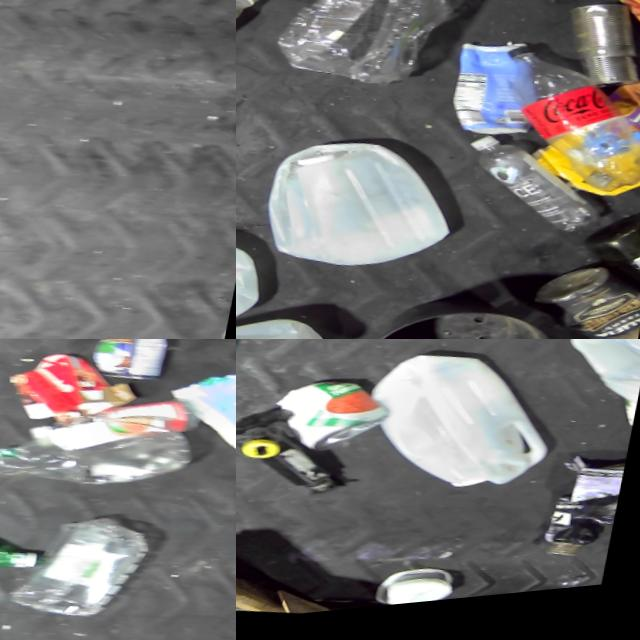can: (269, 371, 392, 464), (564, 5, 640, 105), (86, 339, 186, 402), (373, 563, 468, 615)
milk_jug: (259, 126, 477, 296), (361, 343, 569, 515), (543, 339, 640, 445)
plastic_bottle: (472, 42, 640, 219), (462, 133, 619, 261), (0, 514, 58, 597)
